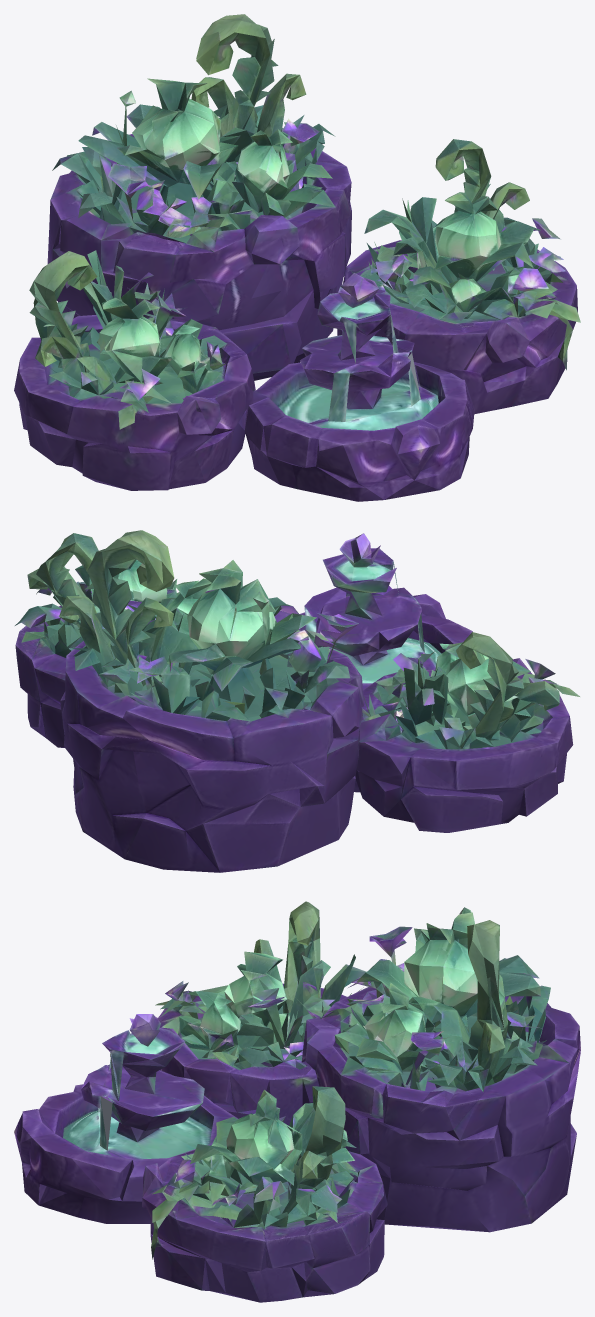
The model's file is giardino.glb.
3 renders of one model, top to bottom at view 1: azimuth 30°, elevation 25°; view 2: azimuth 150°, elevation 25°; view 3: azimuth 270°, elevation 25°, orthographic. The views are drawn at different scales.
Bounding box in the file's own units: 1.89 × 0.9908 × 1.79.
1 material, 1 textured.
